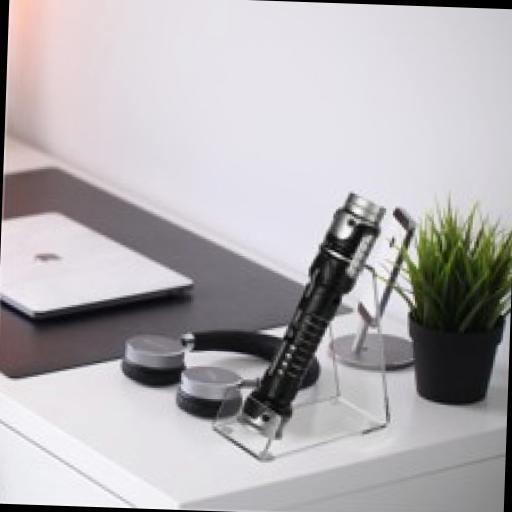lightsaber: (236, 192, 384, 439)
